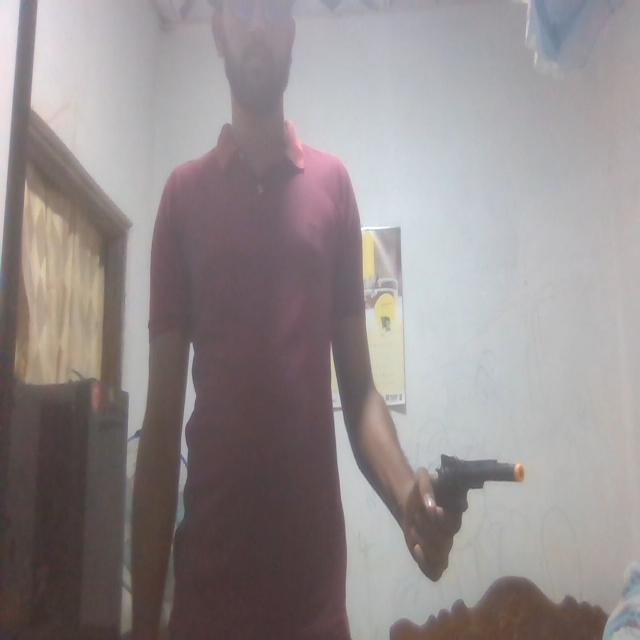Gun_Holder: (411, 447, 537, 585)
Person: (137, 0, 451, 640)
